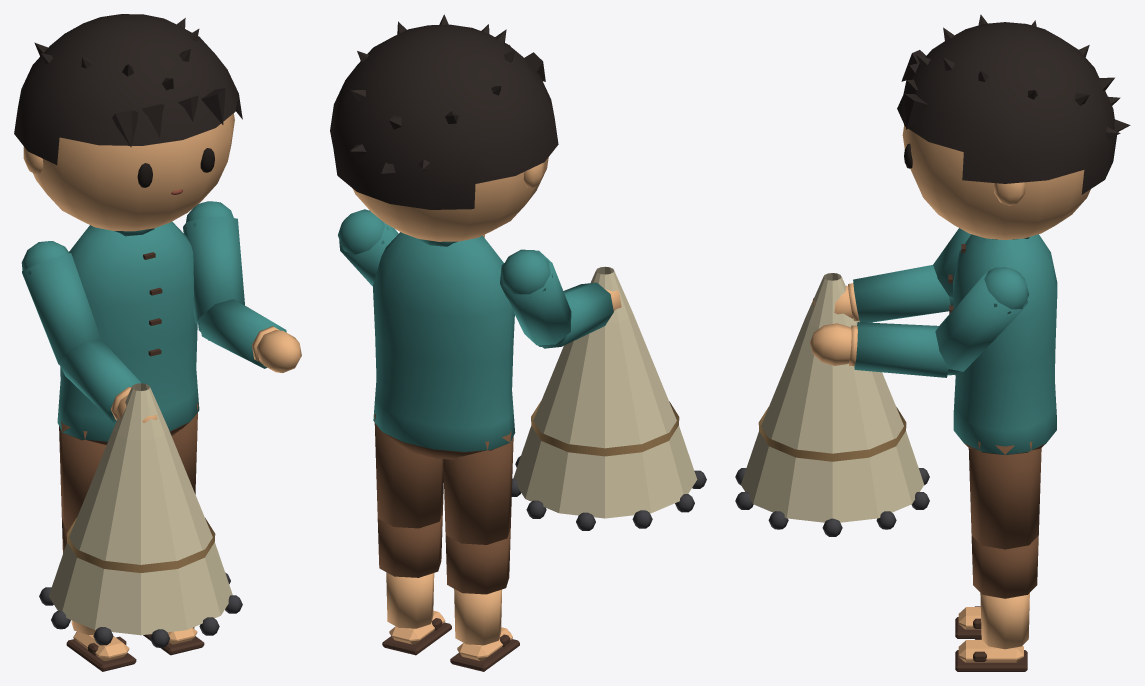
Rendered from central_net_fisher.glb.
The picture shows the model from 3 angles, left to right: view 1: azimuth 30°, elevation 25°; view 2: azimuth 150°, elevation 25°; view 3: azimuth 270°, elevation 25°; orthographic projection.
Parts seen in each view (by area): view 1: head, prop_cast_net, body, arm_R, arm_L, forearm_L, forearm_R, leg_R, shin_R, leg_L, shin_L; view 2: head, body, prop_cast_net, shin_R, shin_L, leg_R, leg_L, arm_R, arm_L, forearm_R; view 3: head, prop_cast_net, body, shin_L, leg_L, forearm_L, arm_L, forearm_R, arm_R, shin_R.
Part boxes in pixels (x1=…): head: x1=14, y1=14, x2=242, y2=231; prop_cast_net: x1=39, y1=383, x2=242, y2=647; body: x1=57, y1=221, x2=199, y2=444; arm_R: x1=21, y1=241, x2=101, y2=364; arm_L: x1=183, y1=201, x2=244, y2=340; forearm_L: x1=198, y1=299, x2=301, y2=372; forearm_R: x1=58, y1=339, x2=157, y2=422; leg_R: x1=59, y1=420, x2=106, y2=528; shin_R: x1=62, y1=518, x2=136, y2=671; leg_L: x1=172, y1=403, x2=198, y2=494; shin_L: x1=143, y1=627, x2=204, y2=655; head: x1=330, y1=14, x2=558, y2=241; body: x1=373, y1=232, x2=515, y2=459; prop_cast_net: x1=511, y1=266, x2=706, y2=530; shin_R: x1=445, y1=528, x2=519, y2=671; shin_L: x1=377, y1=511, x2=451, y2=655; leg_R: x1=443, y1=431, x2=513, y2=544; leg_L: x1=374, y1=414, x2=443, y2=528; arm_R: x1=500, y1=249, x2=571, y2=346; arm_L: x1=338, y1=209, x2=398, y2=286; forearm_R: x1=542, y1=282, x2=621, y2=348; head: x1=897, y1=14, x2=1130, y2=239; prop_cast_net: x1=735, y1=273, x2=929, y2=536; body: x1=948, y1=234, x2=1057, y2=454; shin_L: x1=955, y1=536, x2=1038, y2=671; leg_L: x1=968, y1=441, x2=1041, y2=549; forearm_L: x1=810, y1=322, x2=955, y2=377; arm_L: x1=935, y1=267, x2=1028, y2=375; forearm_R: x1=813, y1=265, x2=950, y2=322; arm_R: x1=933, y1=228, x2=971, y2=305; shin_R: x1=955, y1=606, x2=981, y2=638.
Size of the model in its own units: 0.6691 by 1.48 by 0.8619.
